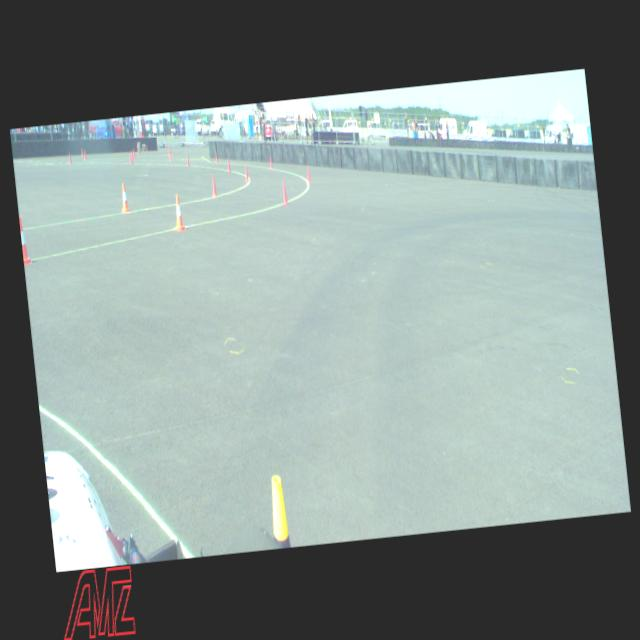orange_cone: (19, 216, 31, 264), (172, 193, 185, 230), (118, 182, 129, 212)
unknown_cone: (280, 180, 288, 204), (210, 174, 217, 196), (244, 165, 249, 182), (306, 164, 310, 183), (185, 154, 190, 166), (226, 157, 230, 170), (268, 156, 272, 168), (128, 152, 132, 164), (168, 146, 172, 158), (168, 150, 172, 160), (132, 148, 136, 157), (68, 153, 71, 164), (215, 152, 218, 162), (130, 150, 133, 160), (83, 150, 86, 159), (80, 148, 83, 157)
